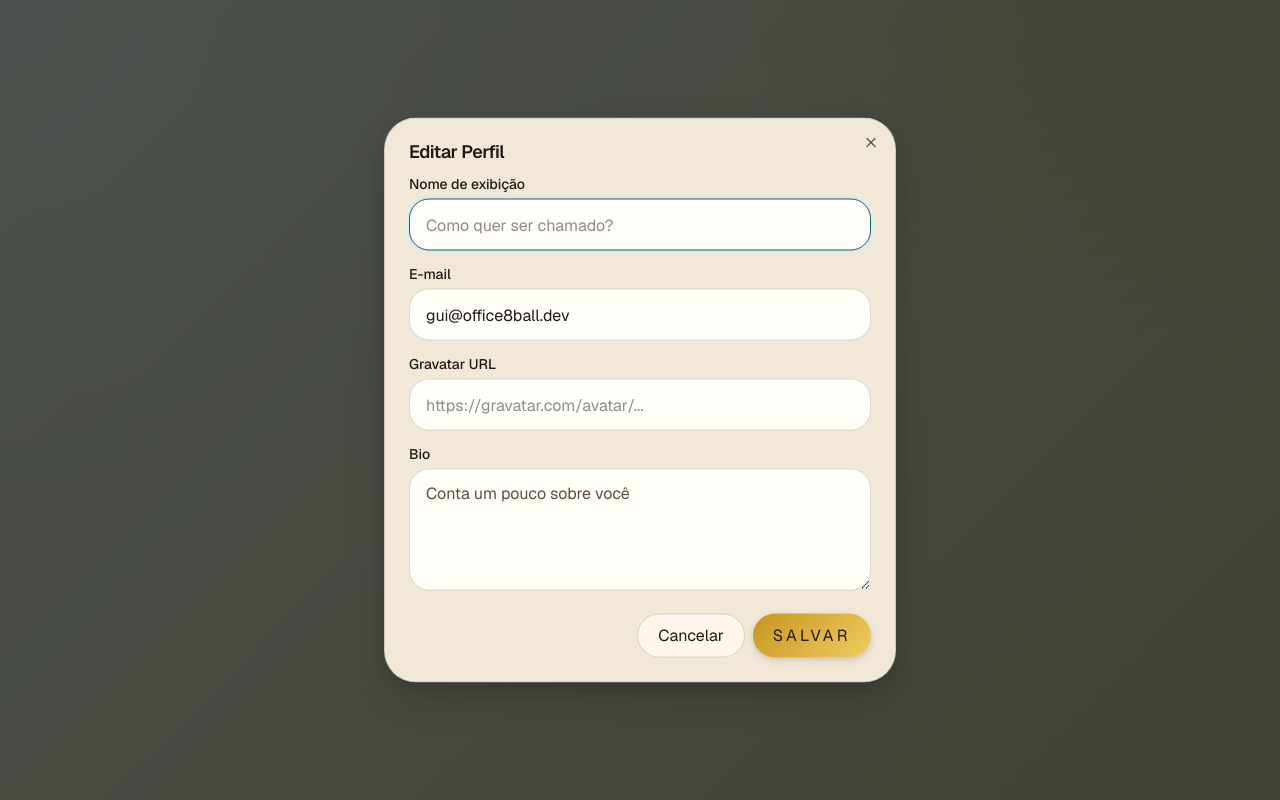
ProfileEditDialog › shows validation error when displayName is too short
In the field with placeholder "Como quer ser chamado?": (640, 224) [409,198,871,250], type "x"
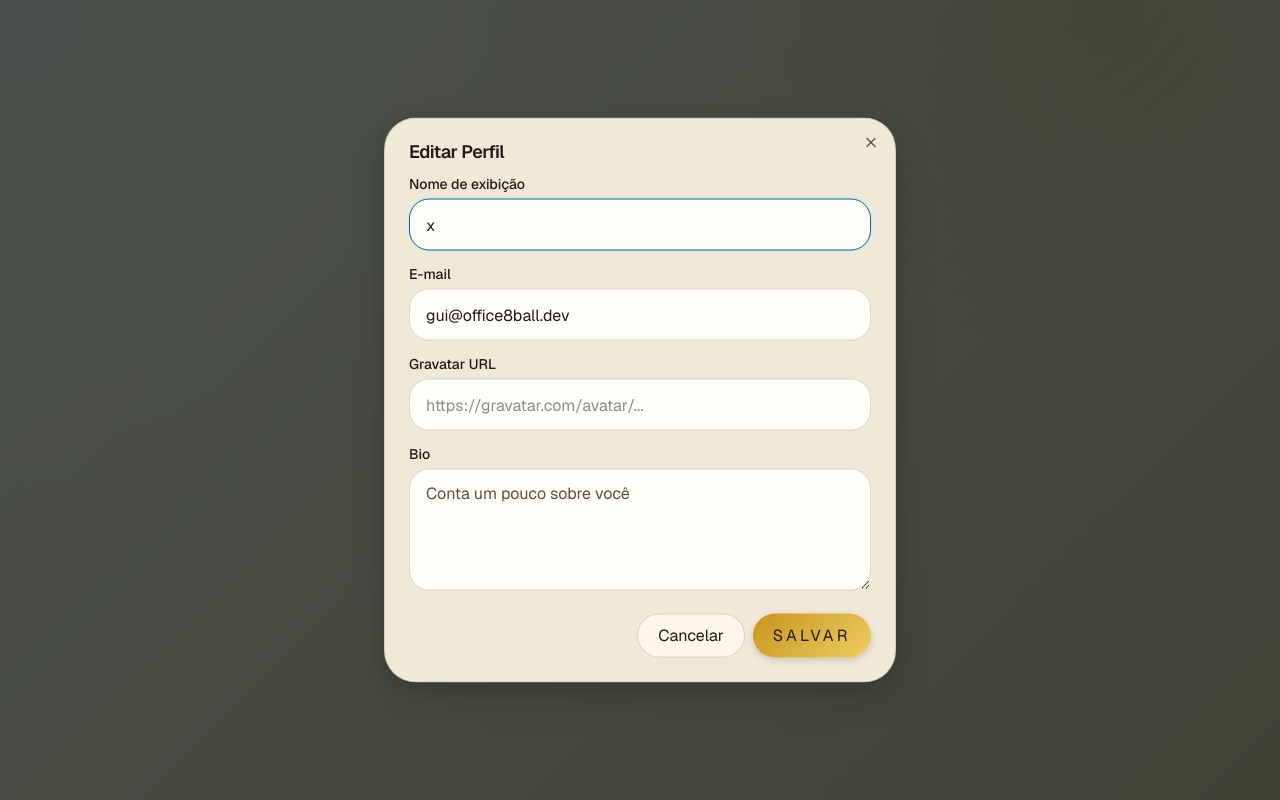
Click the button "Salvar": click(812, 636) [753,614,871,658]
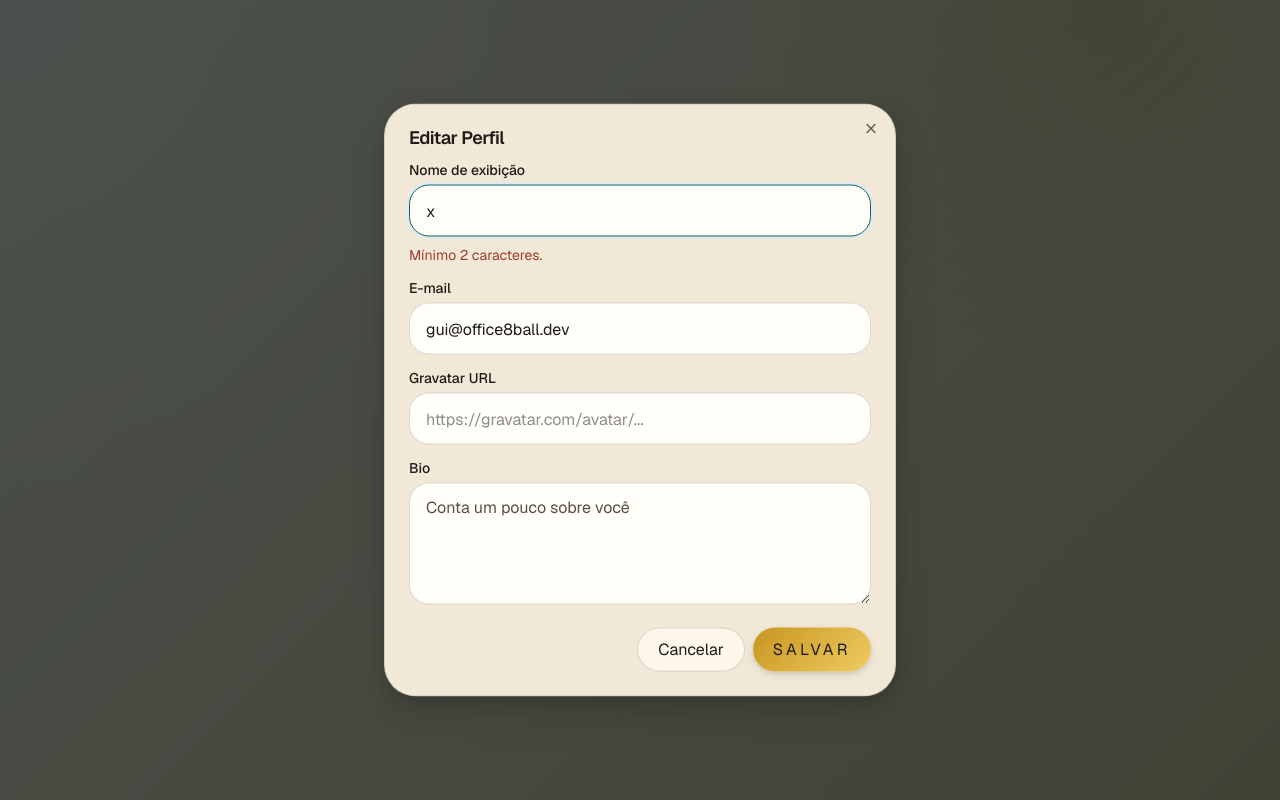
Expected: the text "Mínimo 2 caracteres." is shown, [409,246,542,264]
